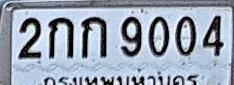0: (175, 15, 196, 56), (148, 16, 169, 56)
2: (18, 17, 41, 59)
4: (202, 15, 224, 57)
9: (121, 16, 141, 57)
A01: (81, 16, 107, 58), (48, 16, 74, 58)
